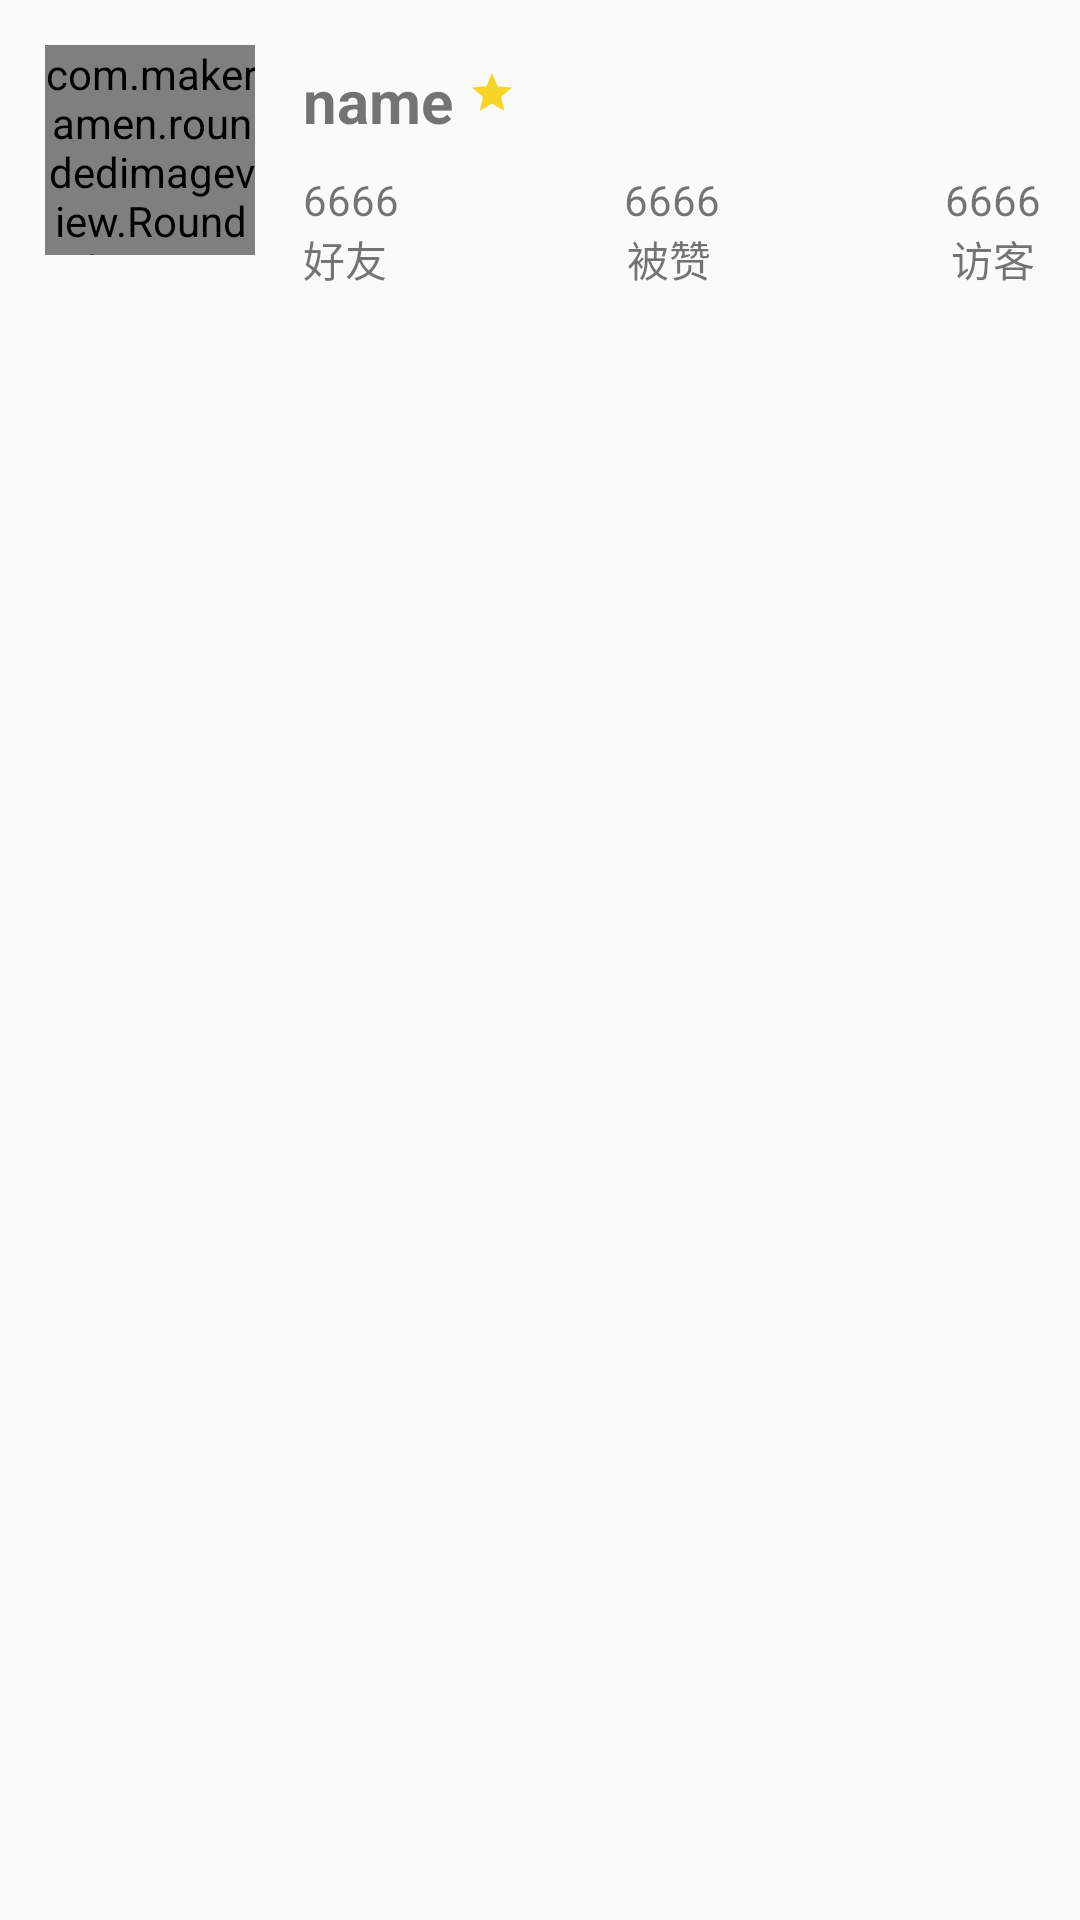

Icons on this 1080×1920 Android screen, each with the point to tap as (x,y):
star: (492,92)
